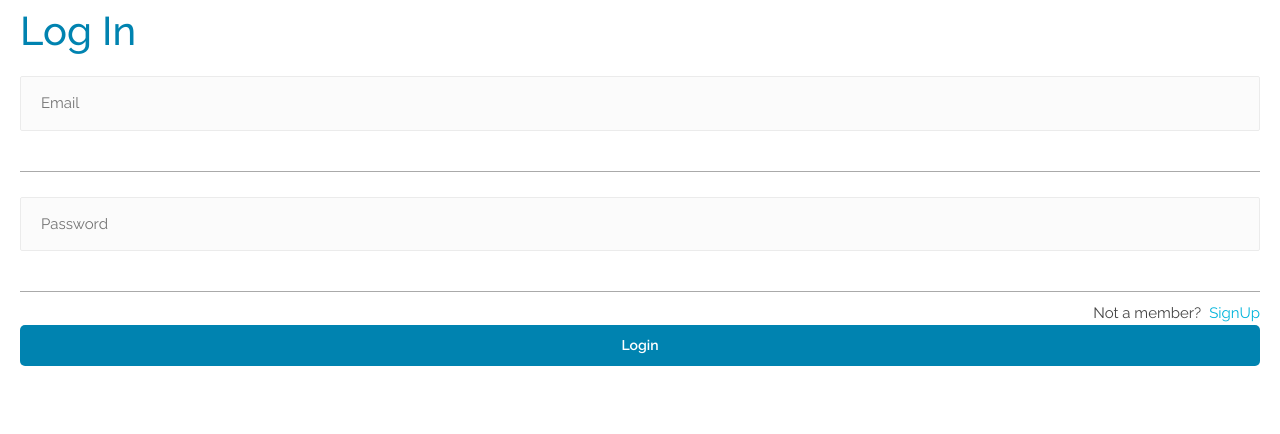
Test case: Login Form › should display error messages for required fields
This screenshot has width=1280, height=434.
Click the button with test id "login-button".
click(640, 345)  # box [20,324,1260,366]
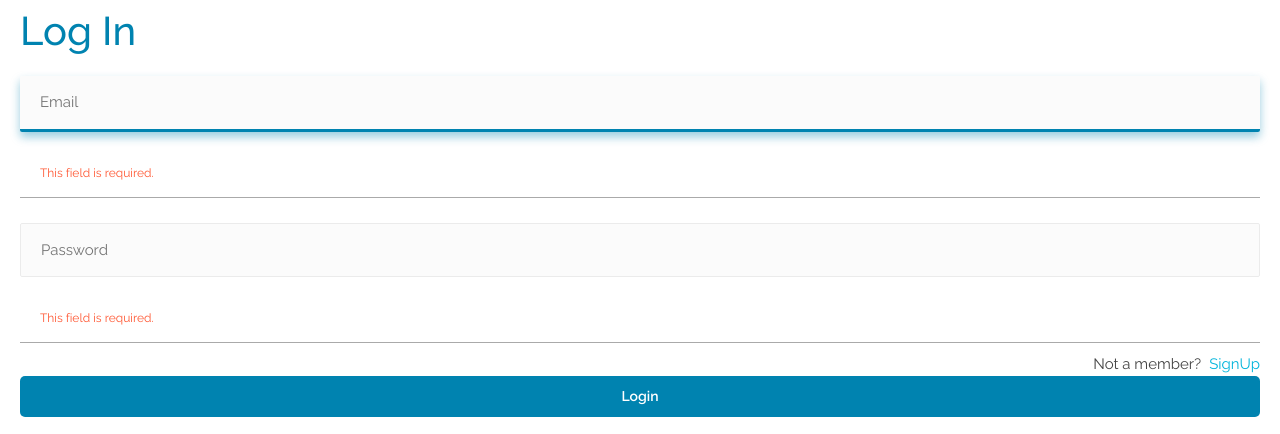
Check: the text with test id "emailError" shows "required", box [40,166,154,180]
Check: the text with test id "passwordError" shows "required", box [40,311,154,325]
